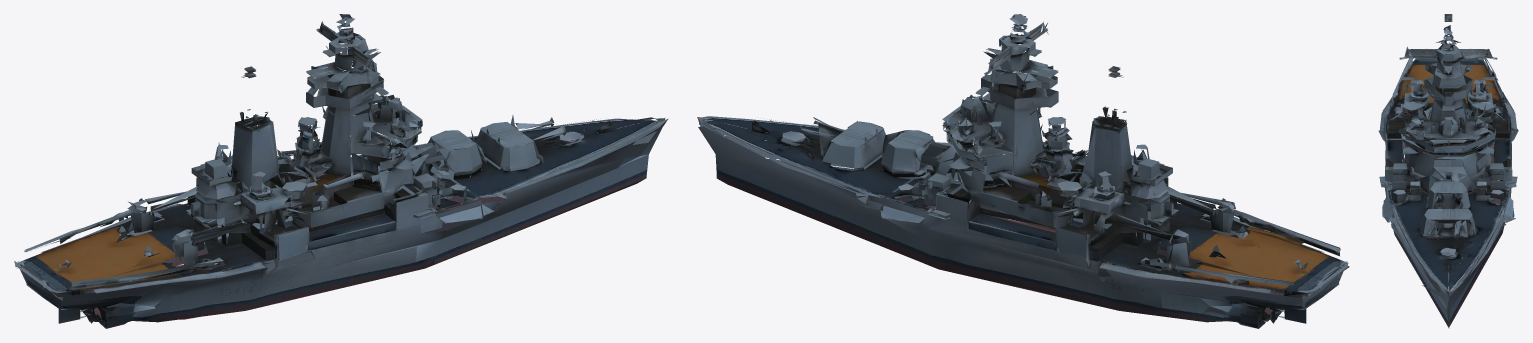
The model's file is leviathan_LOD2.glb.
3 renders of one model, left to right at view 1: azimuth 30°, elevation 25°; view 2: azimuth 150°, elevation 25°; view 3: azimuth 270°, elevation 25°, orthographic. The views are drawn at different scales.
Visible parts, largest first — view 1: leviathan_LOD2; view 2: leviathan_LOD2; view 3: leviathan_LOD2.
Part boxes in pixels (x1,y1,x2,y2): leviathan_LOD2: [14, 14, 668, 328]; leviathan_LOD2: [697, 14, 1349, 328]; leviathan_LOD2: [1378, 14, 1518, 328].
Size of the model in its own units: 1 by 0.3631 by 0.2432.
Materials: 1 (1 with a texture image).
